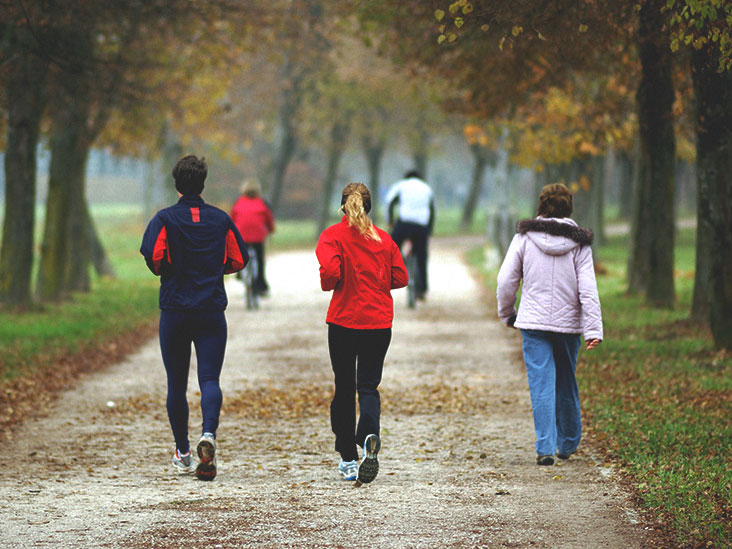Person: (139, 147, 251, 483), (486, 180, 612, 469), (307, 179, 411, 489), (227, 171, 277, 317), (383, 170, 435, 306)
